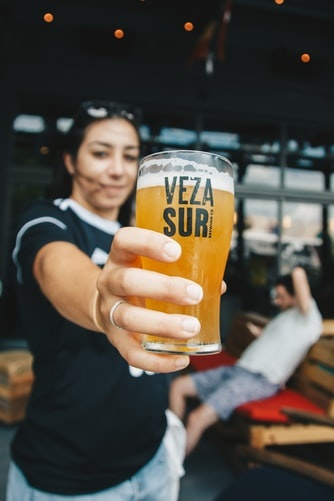whiskey: (130, 152, 238, 358)
